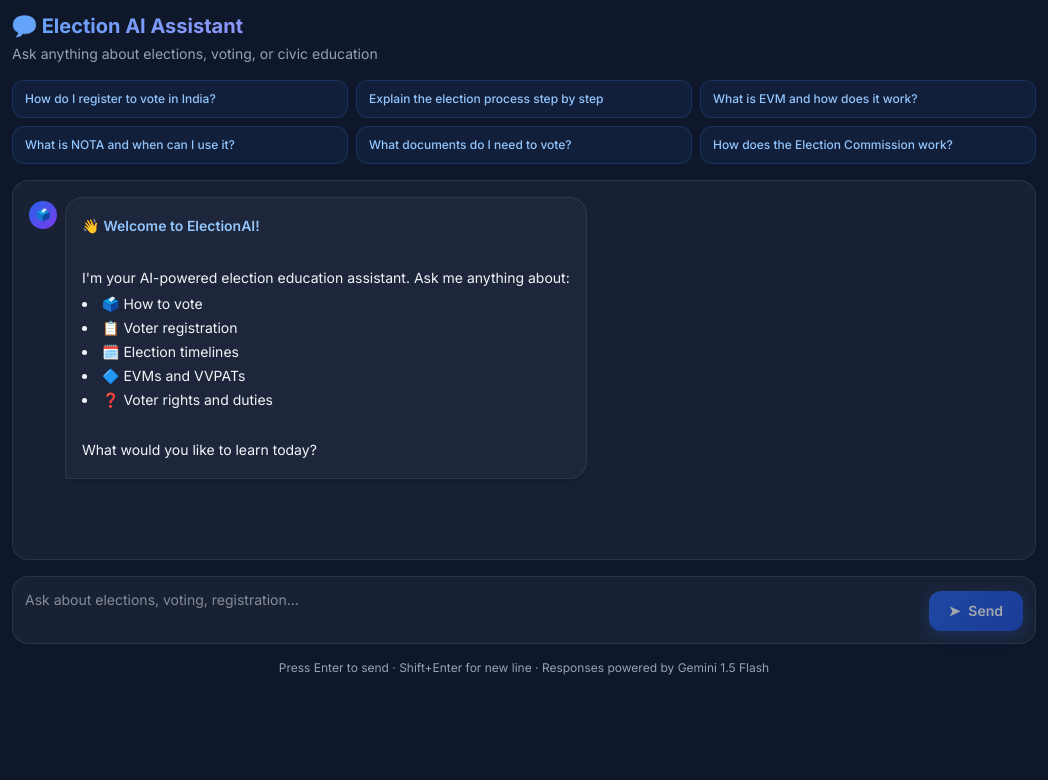
Test: ChatSection › Send button becomes enabled when user types a message
Type "How do I register to vote?" into the text box named "type your message".
click(473, 610); type("How do I register to vote?")  # box [25, 589, 921, 631]
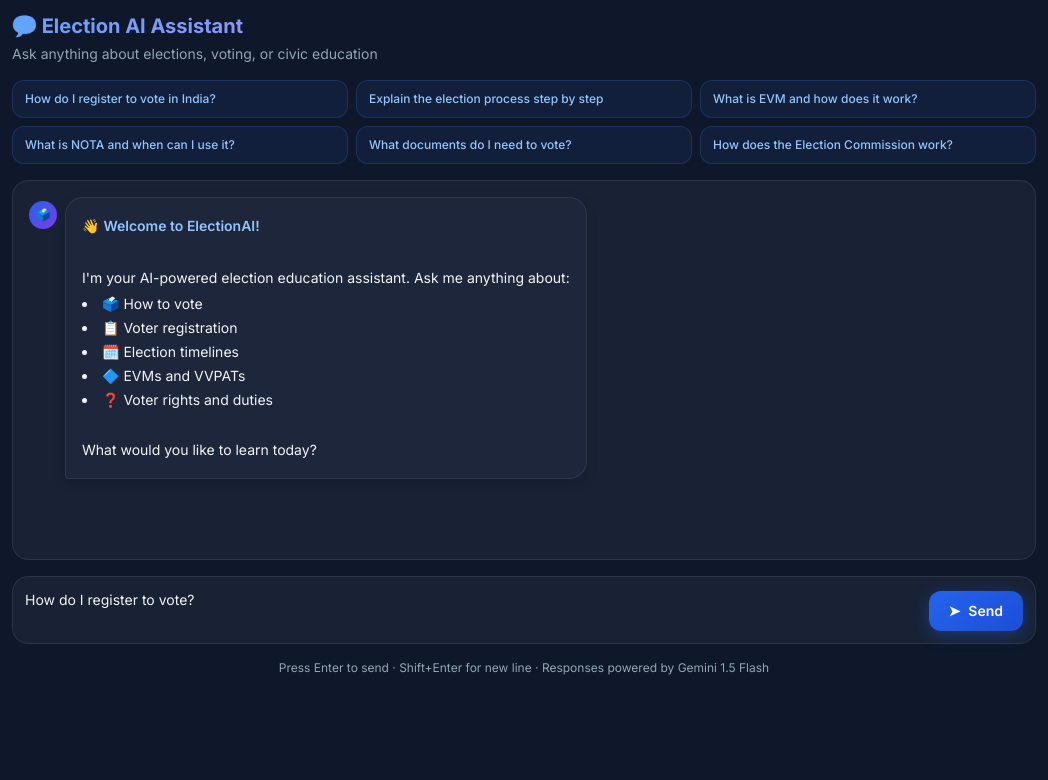
Now the button with aria-label "send message" is enabled, box [929, 591, 1023, 631]
